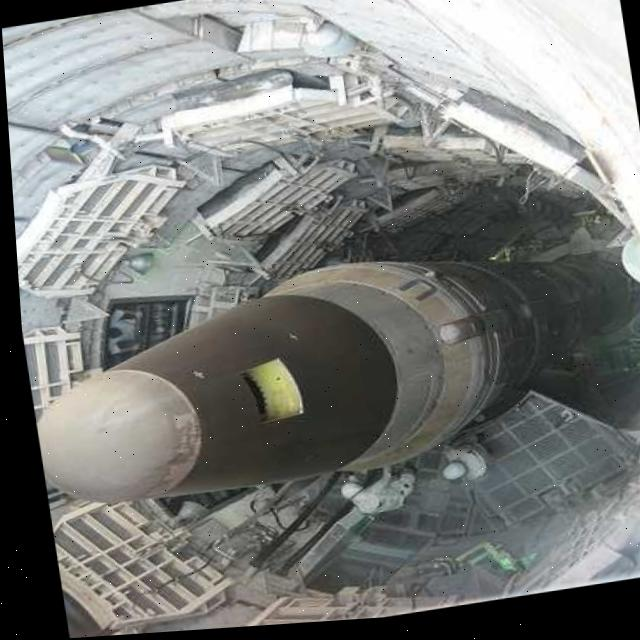missile: (13, 212, 640, 526)
